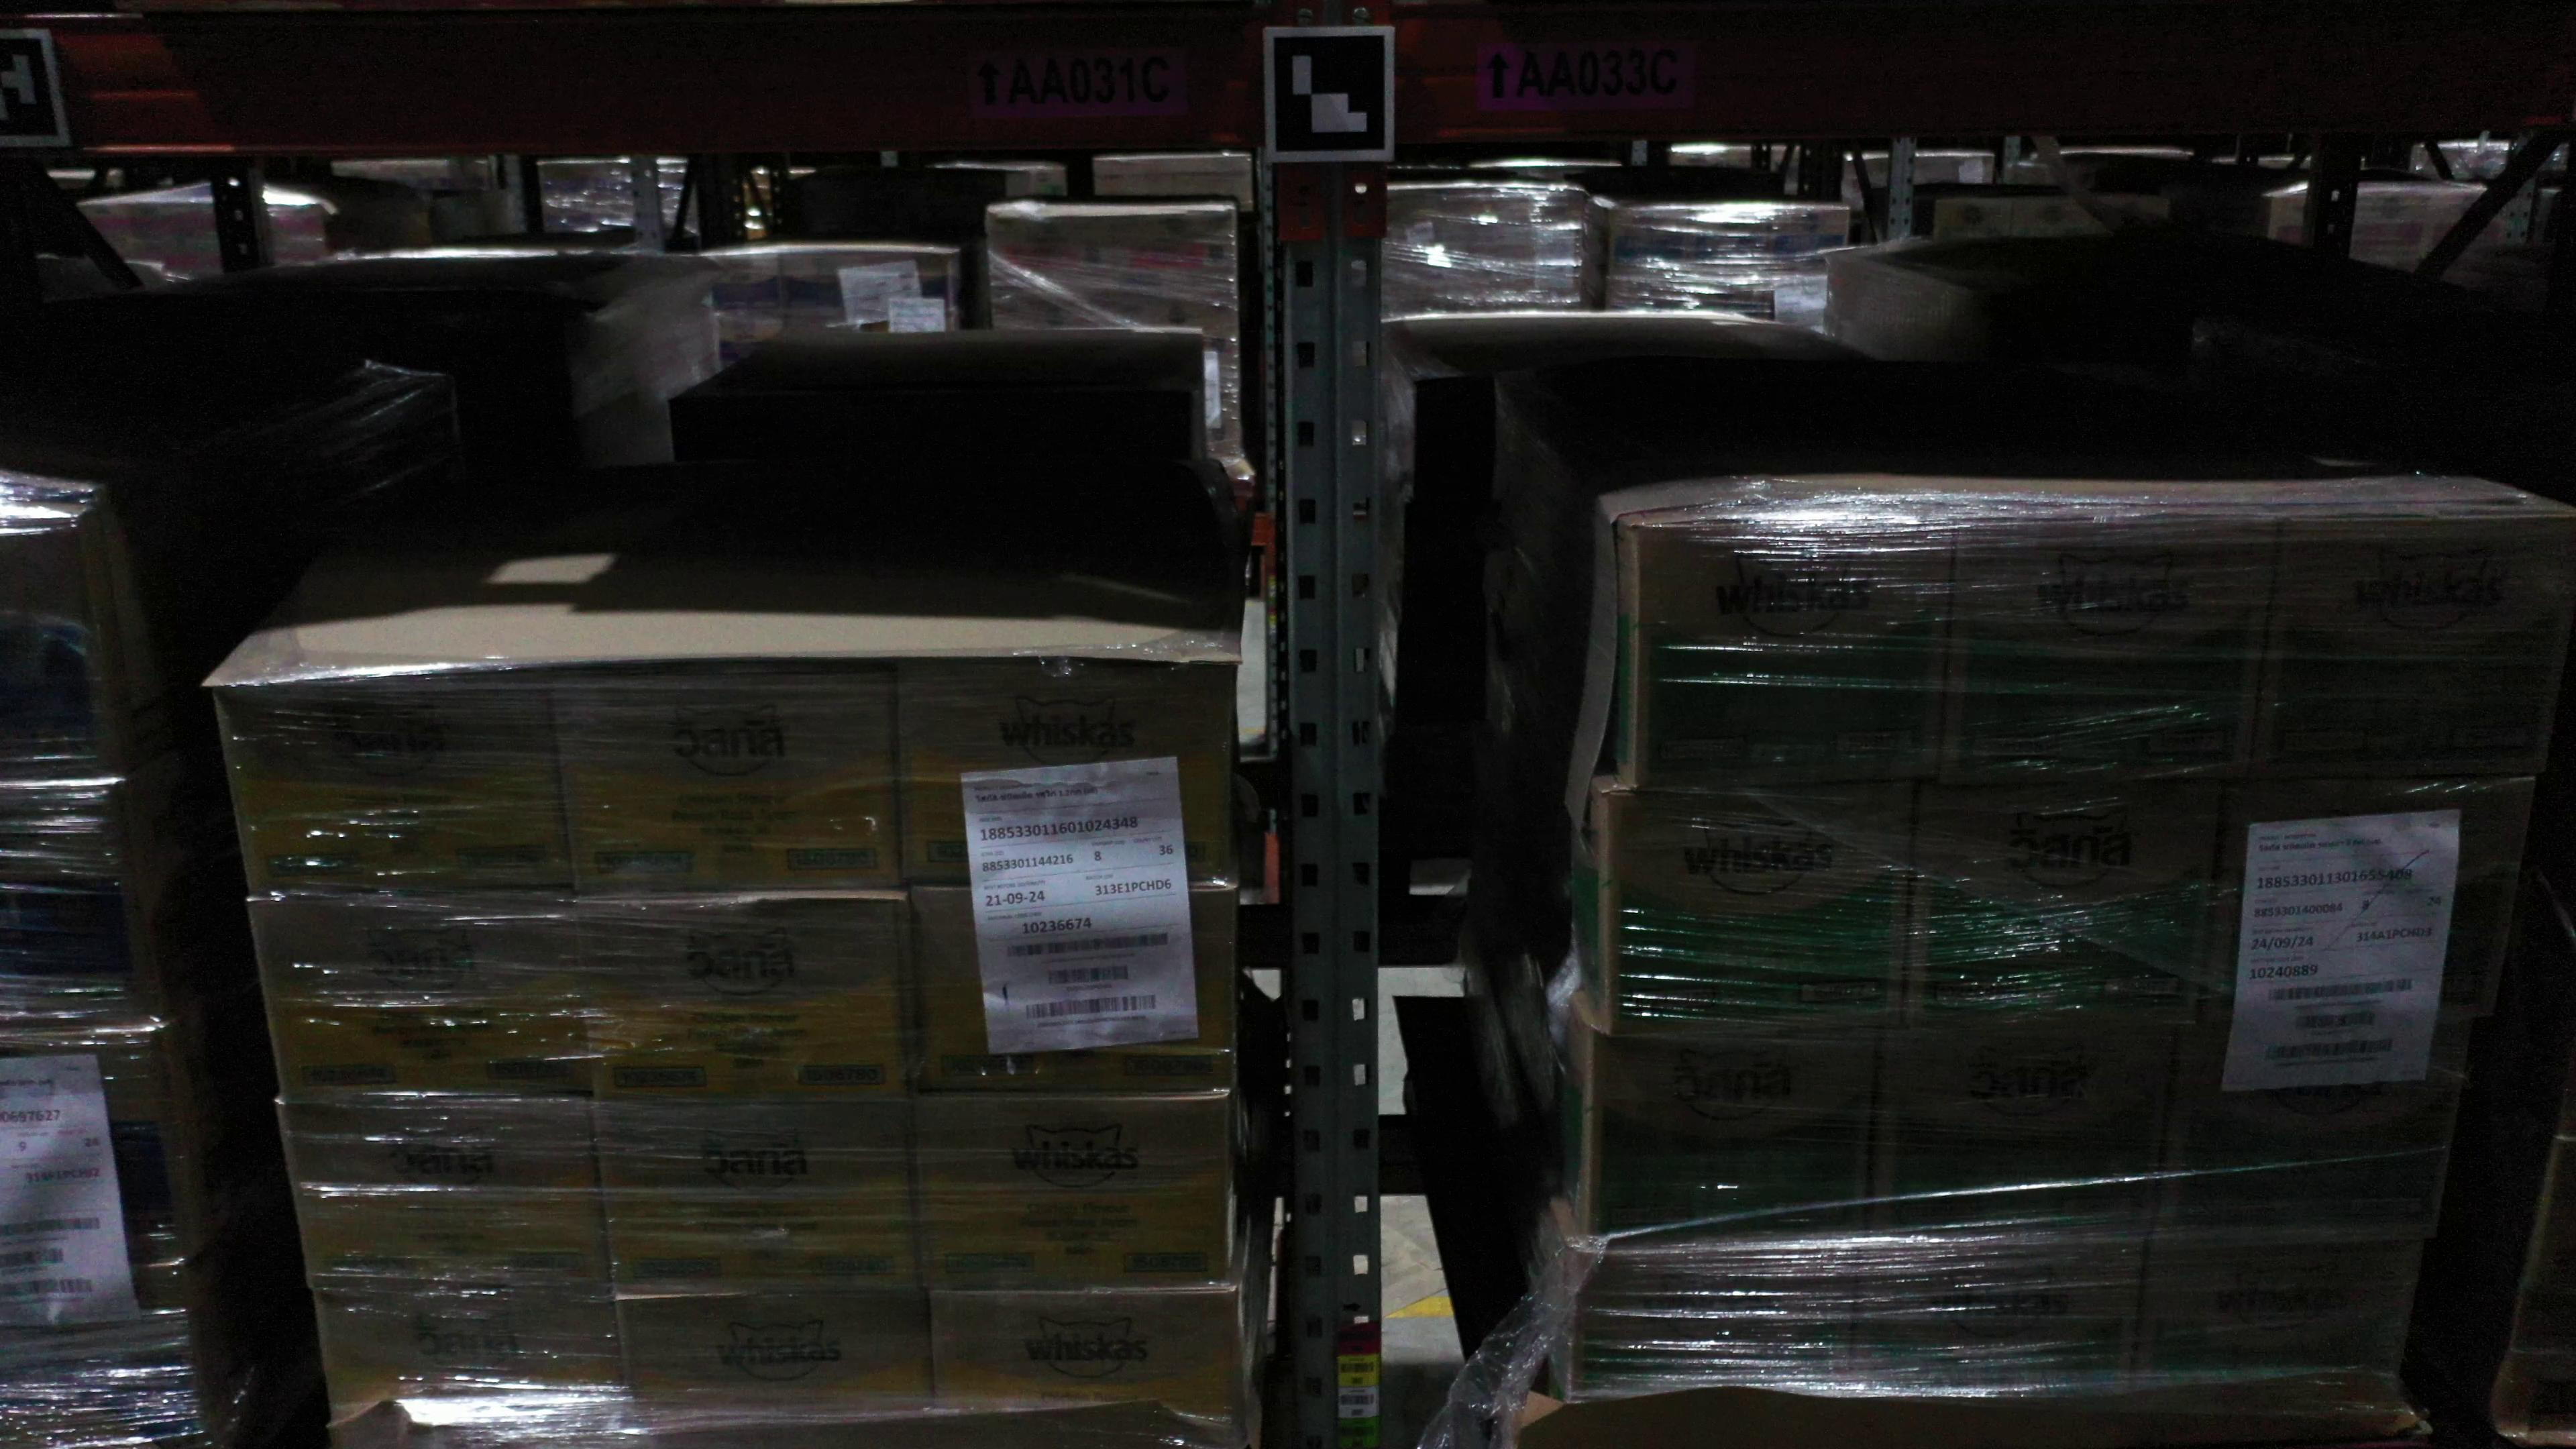-: (1941, 515, 2277, 780), (1633, 524, 1955, 789), (2256, 517, 2576, 780), (550, 663, 901, 899), (2204, 778, 2534, 1028), (892, 651, 1231, 892), (218, 671, 575, 897), (1603, 782, 1914, 1040), (1907, 778, 2217, 1033), (901, 881, 1235, 1095), (2158, 1016, 2468, 1244), (573, 895, 908, 1102), (251, 899, 593, 1100), (278, 1095, 610, 1293), (1870, 1026, 2171, 1244), (909, 1093, 1230, 1293), (593, 1100, 922, 1293), (1585, 1028, 1875, 1246), (2135, 1231, 2422, 1407), (925, 1288, 1244, 1438), (1854, 1235, 2144, 1398), (1568, 1240, 1856, 1401), (315, 1290, 626, 1435), (610, 1297, 931, 1431), (0, 1035, 186, 1263), (0, 780, 159, 1035), (0, 1265, 214, 1444), (0, 518, 124, 787)
